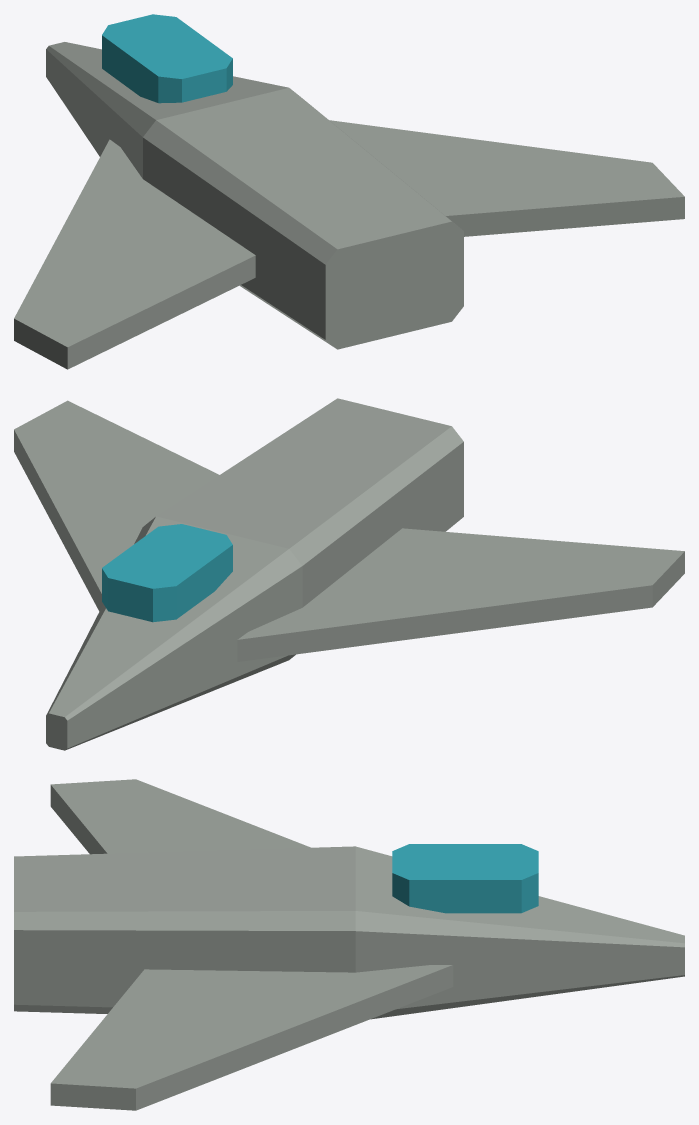
The model's file is family-flight-fighter.glb.
3 renders of one model, top to bottom at view 1: azimuth 30°, elevation 25°; view 2: azimuth 150°, elevation 25°; view 3: azimuth 270°, elevation 25°, orthographic.
Parts seen in each view (by area): view 1: hull, wing-1, wing1; view 2: hull, wing-1, wing1; view 3: hull, wing1, wing-1.
Boxes of the visible parts, <box> form: hull: <box>46,14,463,349</box>; wing-1: <box>14,139,255,369</box>; wing1: <box>329,120,684,236</box>; hull: <box>46,398,463,750</box>; wing-1: <box>237,528,684,661</box>; wing1: <box>14,400,218,611</box>; hull: <box>14,844,684,1019</box>; wing1: <box>50,965,453,1110</box>; wing-1: <box>50,779,310,854</box>.
Size of the model in its own units: 60 by 11.5 by 55.
